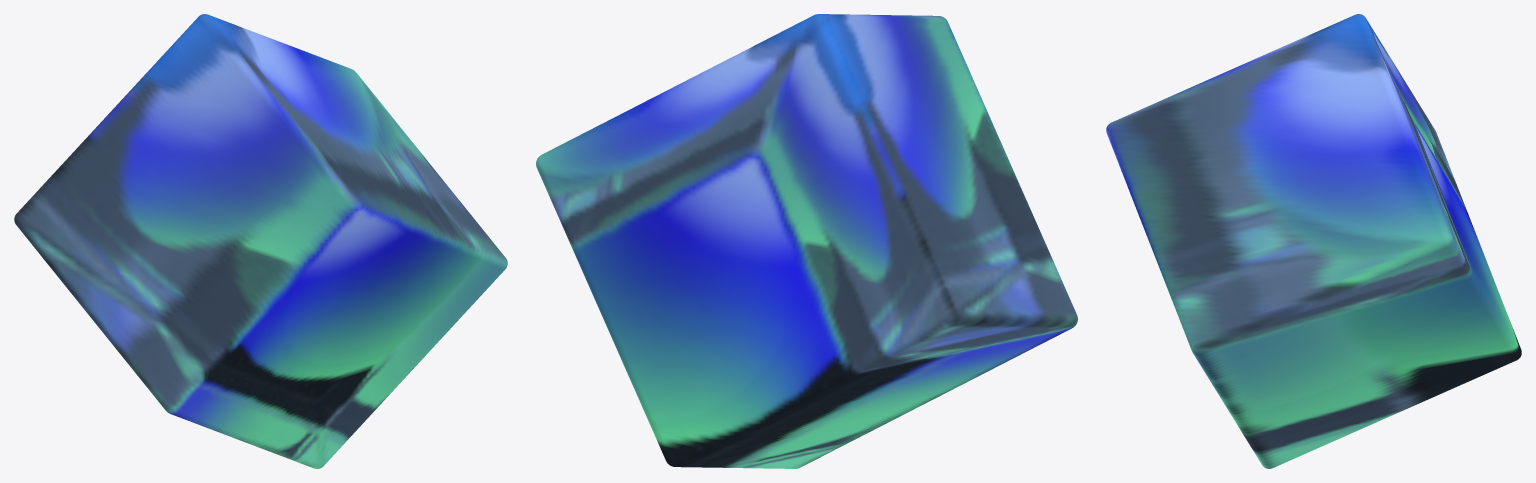
File: orbcube_glass.glb
The picture shows the model from 3 angles, left to right: view 1: azimuth 30°, elevation 25°; view 2: azimuth 150°, elevation 25°; view 3: azimuth 270°, elevation 25°; orthographic projection. The views are drawn at different scales.
Visible parts, largest first — view 1: Cube.001; view 2: Cube.001; view 3: Cube.001.
Boxes of the visible parts, bbox=[...] form: Cube.001: bbox=[14, 14, 507, 468]; Cube.001: bbox=[536, 14, 1077, 468]; Cube.001: bbox=[1106, 14, 1521, 468].
Size of the model in its own units: 1.47 by 1.64 by 1.46.
1 material, 1 textured.
